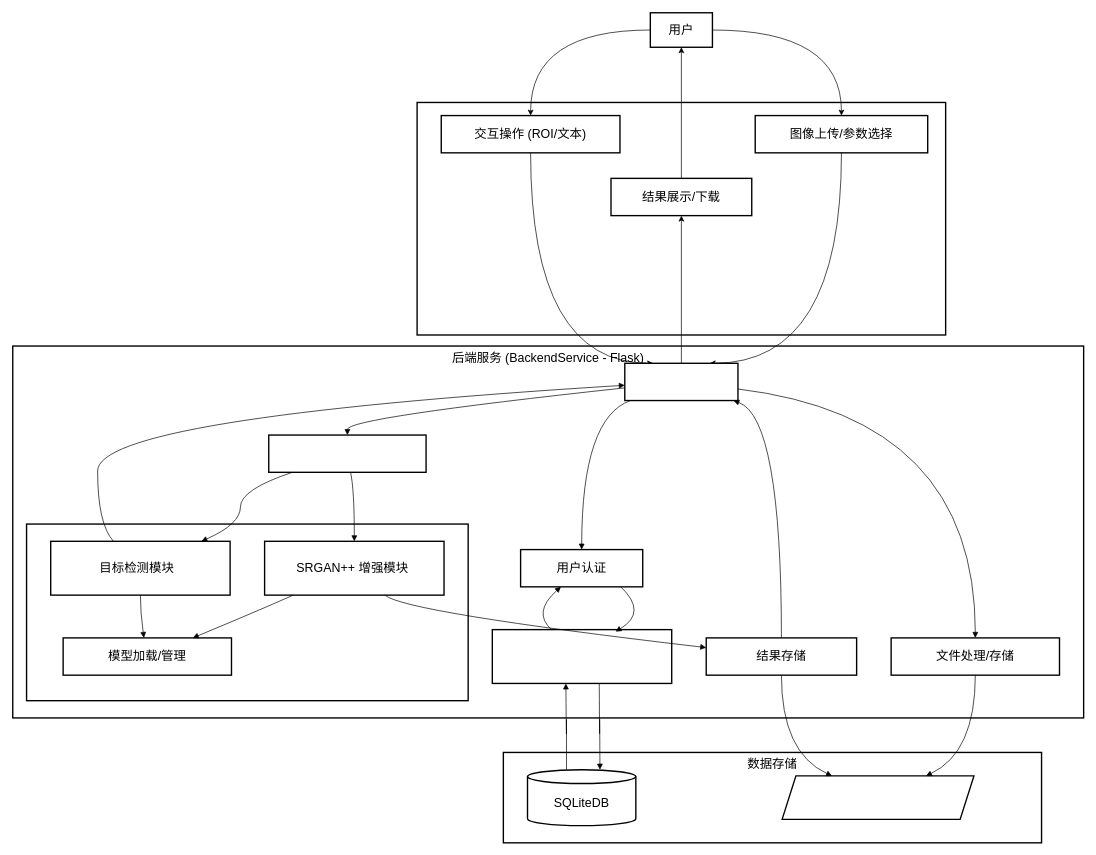
Some shapes in this 1096 by 855 pixel diagram are drawn without their labels. The shapes that lost their labels are listed below. From the top down, each one's box as (x1, y1, x2, y2) in pixels, then its label:
(416, 101, 946, 335): 用户界面 (FrontendApp)
(624, 362, 738, 401): 路由/请求处理
(268, 434, 426, 473): 任务编排/调用处理核心
(26, 523, 469, 701): 图像处理核心
(491, 629, 672, 684): 数据库交互 (db)
(781, 775, 974, 820): 文件系统
